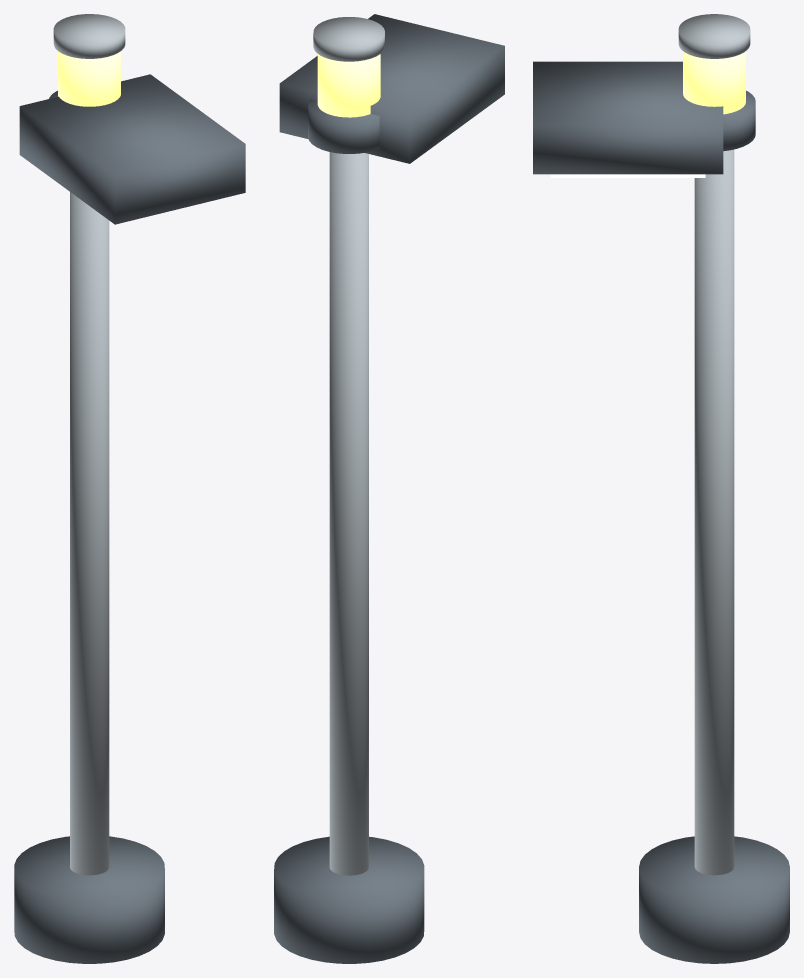
File: light_pole_ultra.glb
The picture shows the model from 3 angles, left to right: view 1: azimuth 30°, elevation 25°; view 2: azimuth 150°, elevation 25°; view 3: azimuth 270°, elevation 25°; orthographic projection.
Parts seen in each view (by area): view 1: Pole_steel, Lamp_dark, Base_dark, StatusLight_warn, Beacon_steel; view 2: Pole_steel, Base_dark, Lamp_dark, StatusLight_warn, Beacon_steel, Beacon_dark; view 3: Pole_steel, Lamp_dark, Base_dark, StatusLight_warn, Beacon_steel, Beacon_dark, Lamp_ink.
Boxes of the visible parts, x1,y1,x2,y2 form: Pole_steel: [70, 192, 109, 875]; Lamp_dark: [19, 74, 245, 224]; Base_dark: [14, 836, 164, 963]; StatusLight_warn: [58, 51, 120, 106]; Beacon_steel: [53, 14, 125, 58]; Pole_steel: [329, 152, 368, 875]; Base_dark: [274, 836, 424, 963]; Lamp_dark: [279, 14, 504, 163]; StatusLight_warn: [317, 54, 380, 117]; Beacon_steel: [313, 17, 384, 61]; Beacon_dark: [308, 99, 379, 153]; Pole_steel: [694, 149, 734, 875]; Lamp_dark: [533, 61, 723, 174]; Base_dark: [639, 836, 789, 963]; StatusLight_warn: [683, 51, 745, 114]; Beacon_steel: [678, 14, 750, 58]; Beacon_dark: [723, 90, 755, 151]; Lamp_ink: [551, 174, 705, 177].
Bounding box in the file's own units: 0.42 × 2.77 × 0.715.
